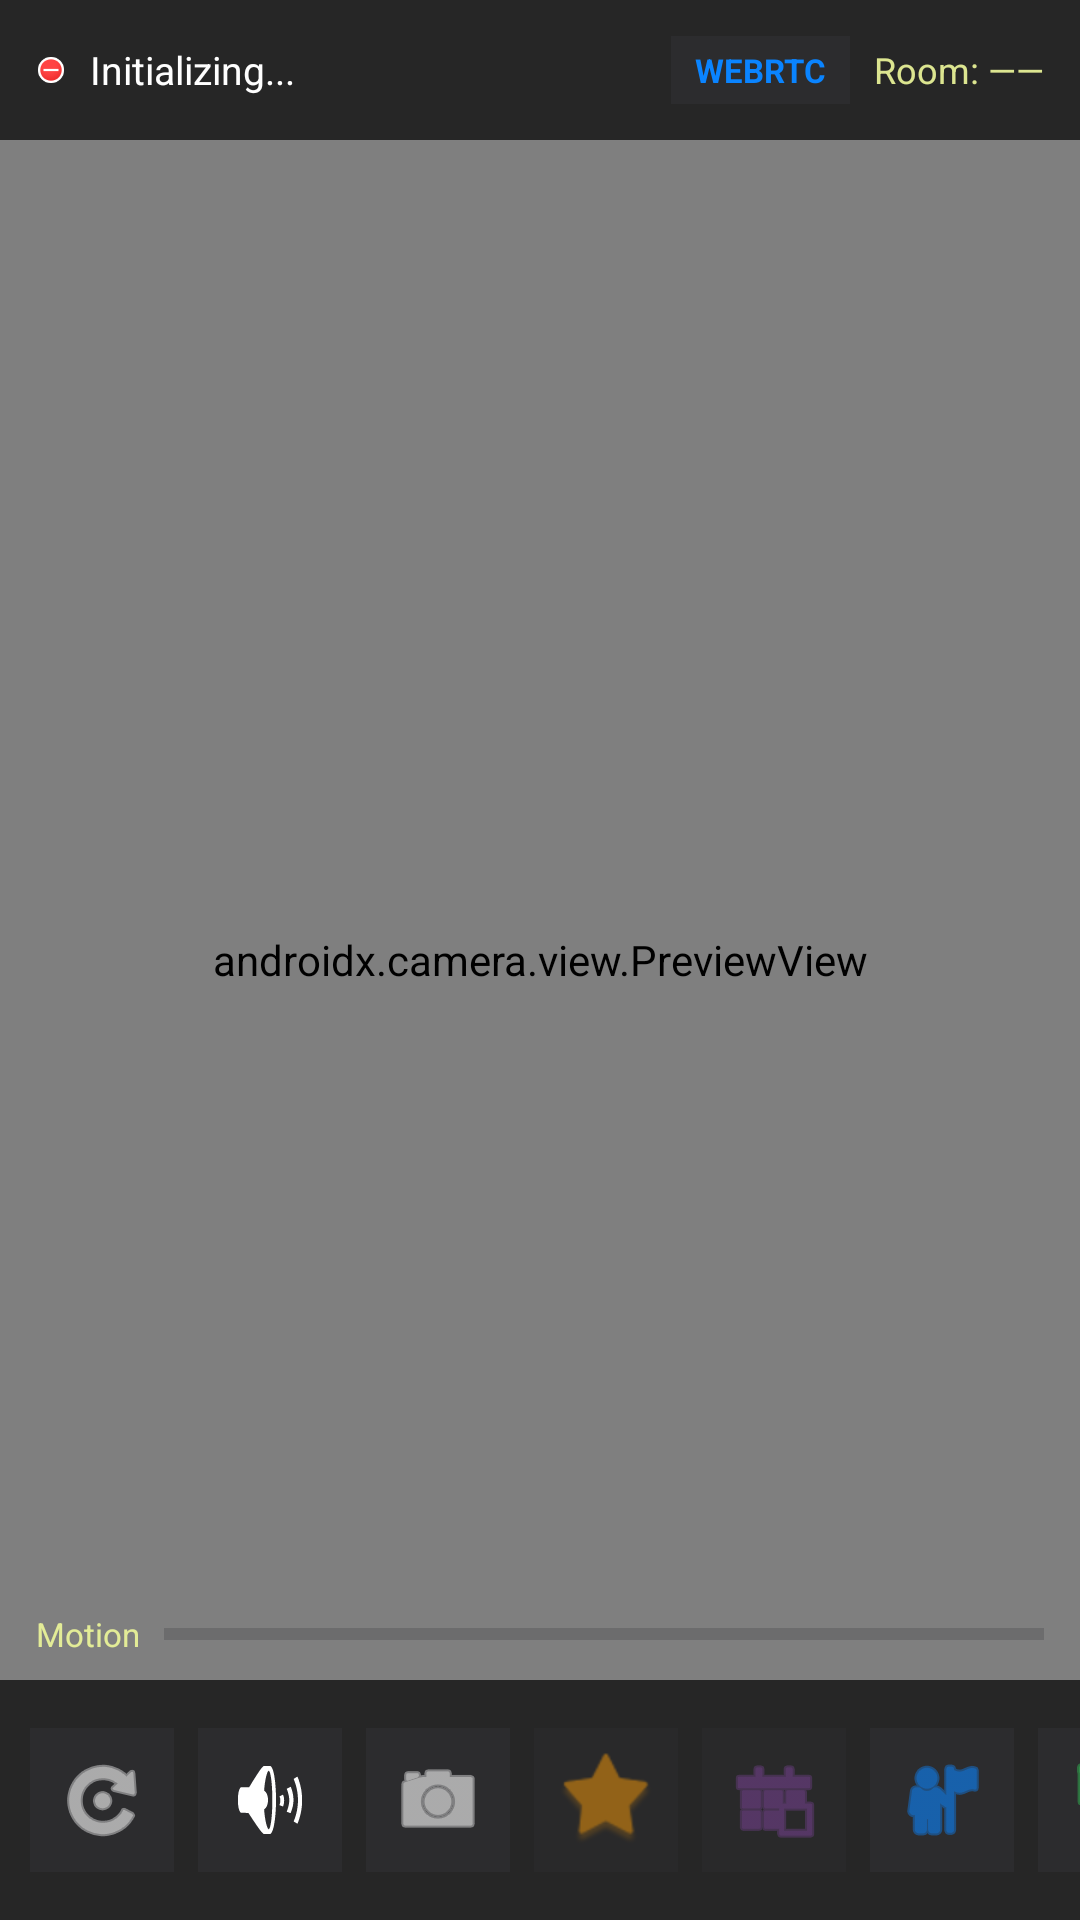

Screen size 1080*1920. Icon name, then its center in pixels as (x=x, y=y):
Mute: (x=270, y=1800)
presence busy: (x=51, y=70)
Switch Camera: (x=102, y=1800)
